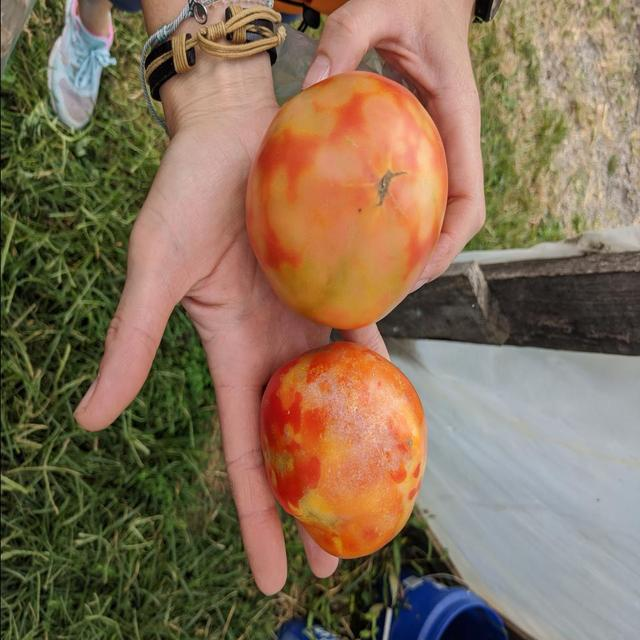Spotted wilt Virus Fruit: (198, 46, 242, 237)
